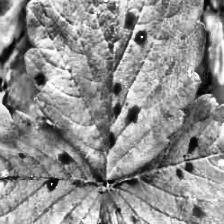Leaf Spot: (22, 0, 206, 184), (104, 92, 223, 224), (0, 99, 121, 224)
